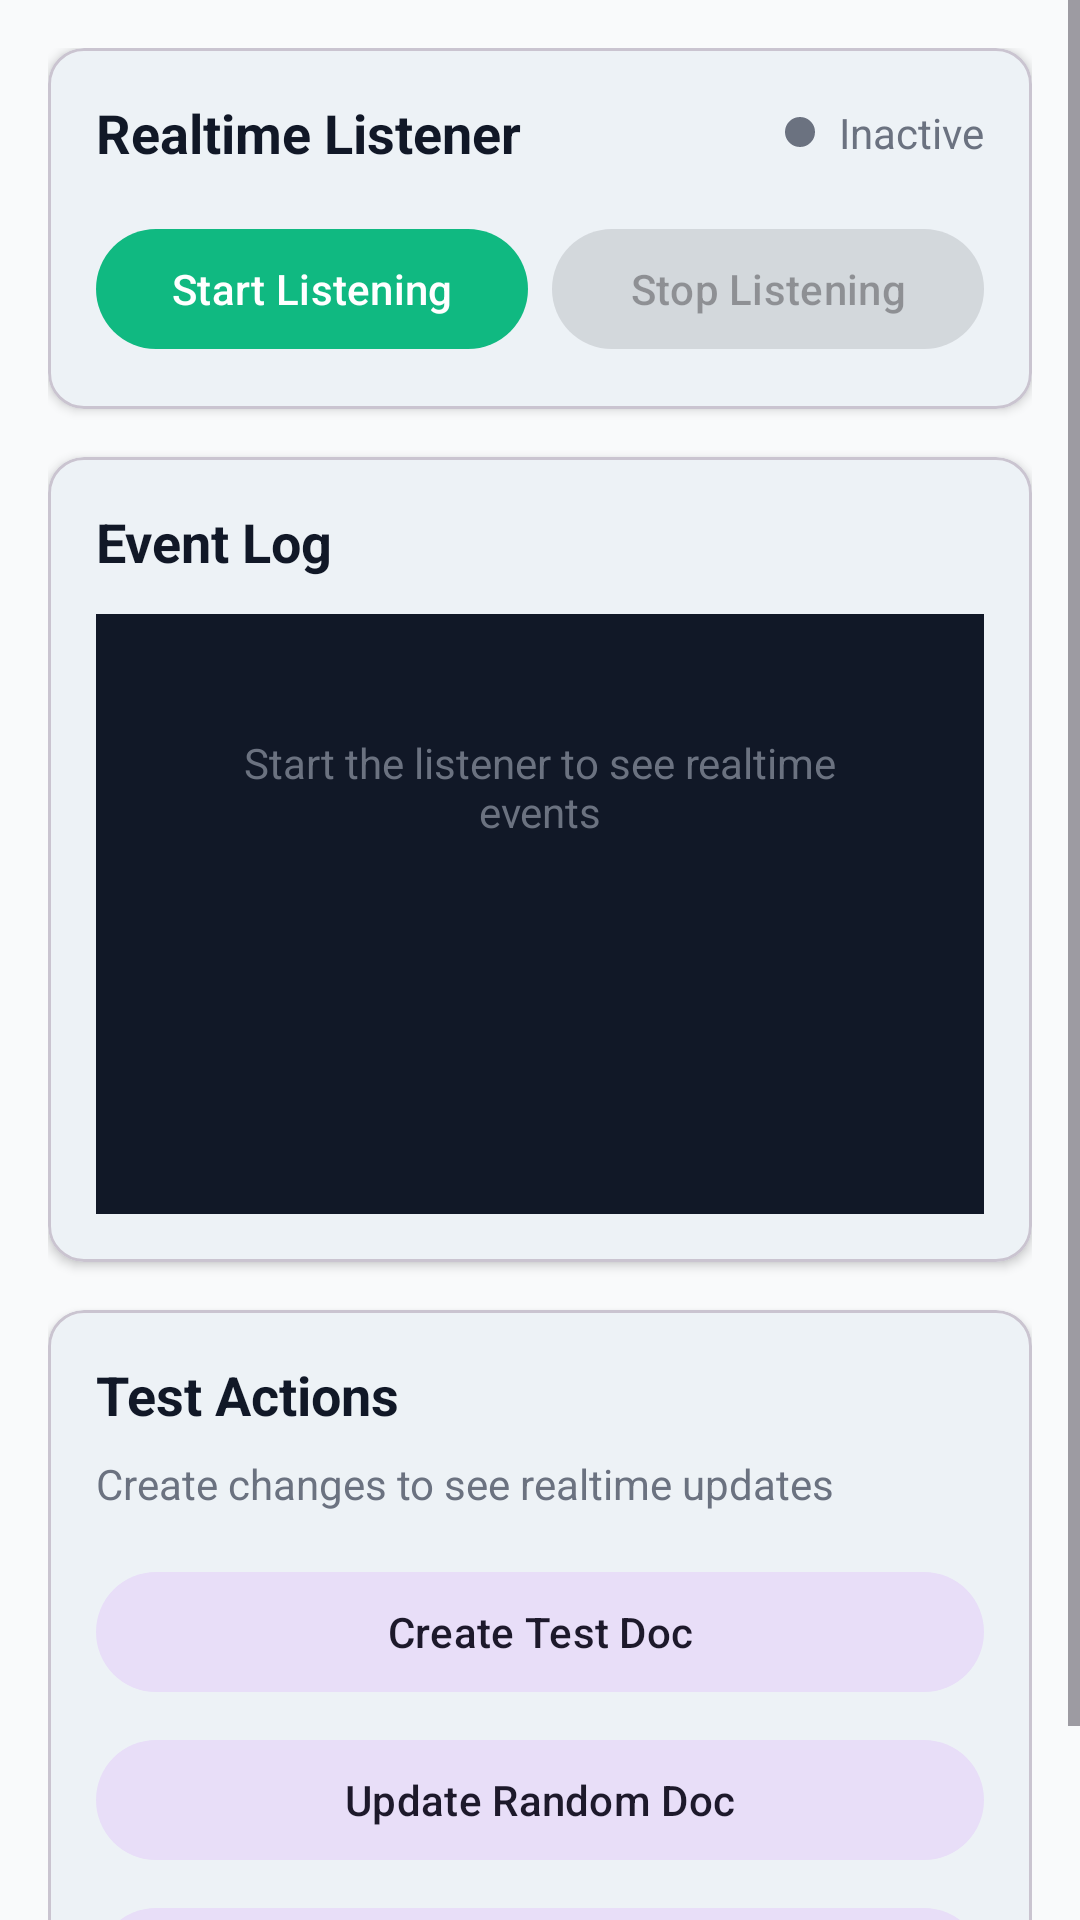

Icon click points for this 1080 × 1920 phone screenshot, format (x=x, y=y):
status dot: (x=800, y=132)
